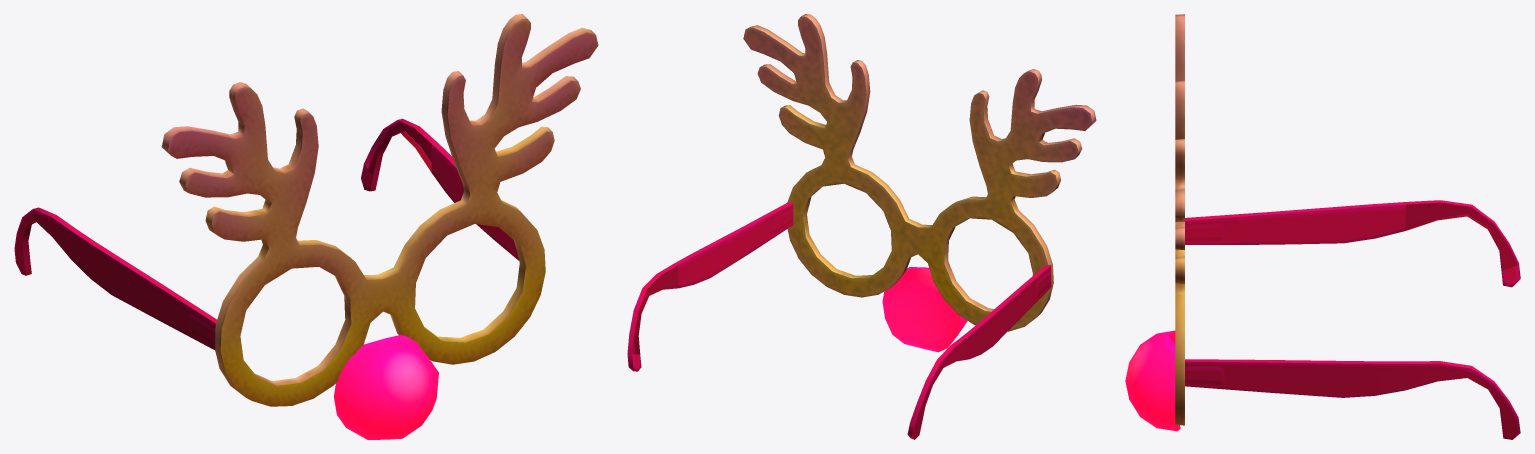
The model's file is glasses.glb.
3 views of the same model, side by side, from view 1: azimuth 30°, elevation 25°; view 2: azimuth 150°, elevation 25°; view 3: azimuth 270°, elevation 25° (orthographic). The views are drawn at different scales.
Parts seen in each view (by area): view 1: Wolf3D_Glasses; view 2: Wolf3D_Glasses; view 3: Wolf3D_Glasses.
Part boxes in pixels (<box>): Wolf3D_Glasses: <box>14,14,598,439</box>; Wolf3D_Glasses: <box>627,14,1096,439</box>; Wolf3D_Glasses: <box>1125,14,1520,439</box>.
Size of the model in its own units: 0.1859 by 0.1579 by 0.1621.
Materials: 1 (1 with a texture image).
